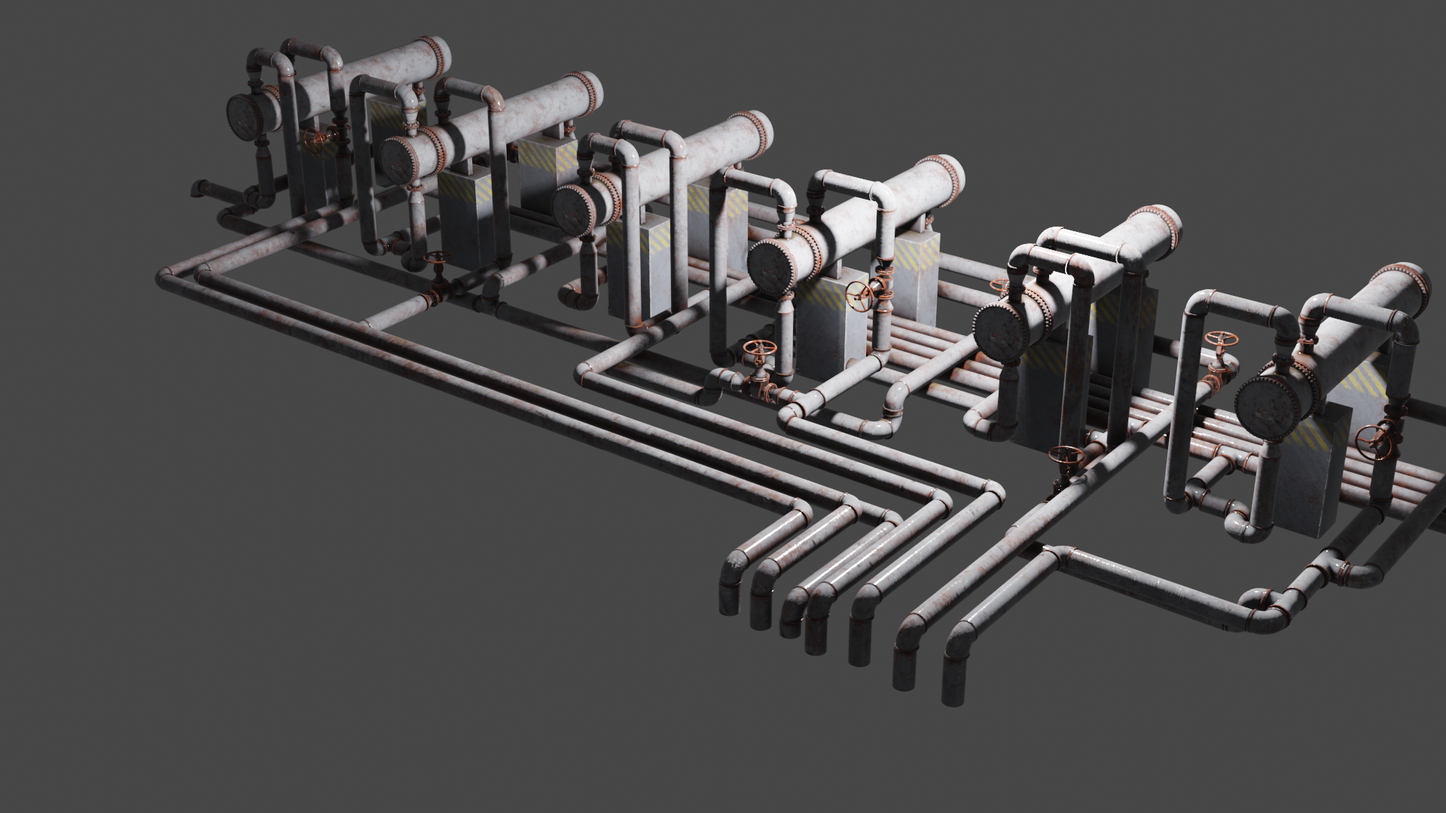HE_1: (227, 32, 455, 139)
HE_2: (377, 68, 602, 184)
HE_3: (550, 107, 773, 235)
HE_4: (745, 153, 970, 291)
HE_5: (970, 205, 1183, 364)
HE_6: (1232, 258, 1430, 437)
